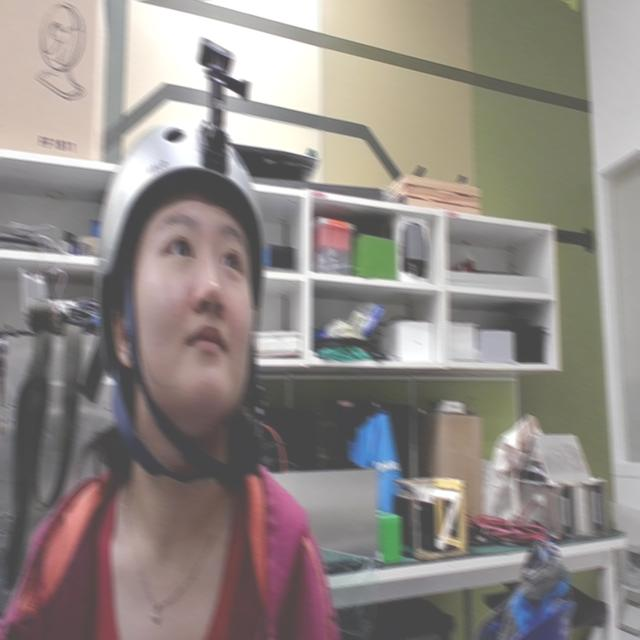With Helmet: (51, 2, 316, 508)
